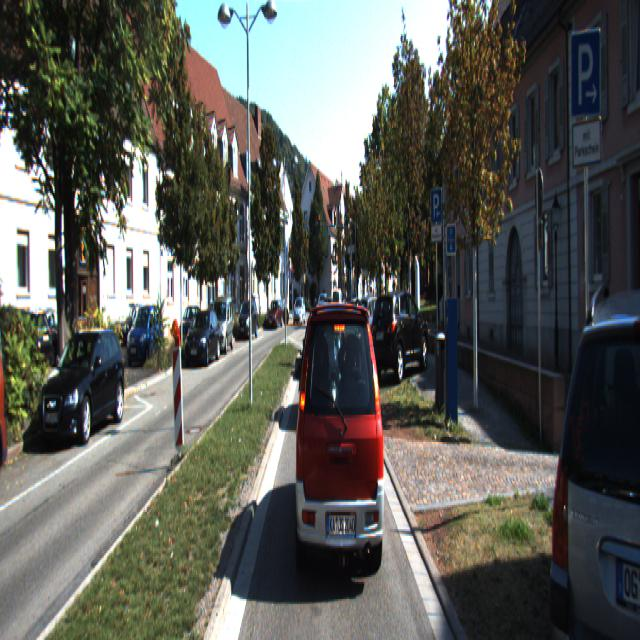Car: (546, 285, 640, 638), (296, 295, 390, 587), (37, 330, 127, 448), (368, 286, 429, 381), (125, 303, 164, 363), (354, 294, 391, 353), (185, 308, 221, 366), (118, 305, 159, 349), (343, 296, 378, 341), (209, 295, 234, 354), (236, 298, 258, 339), (265, 300, 285, 328), (293, 298, 306, 325)
